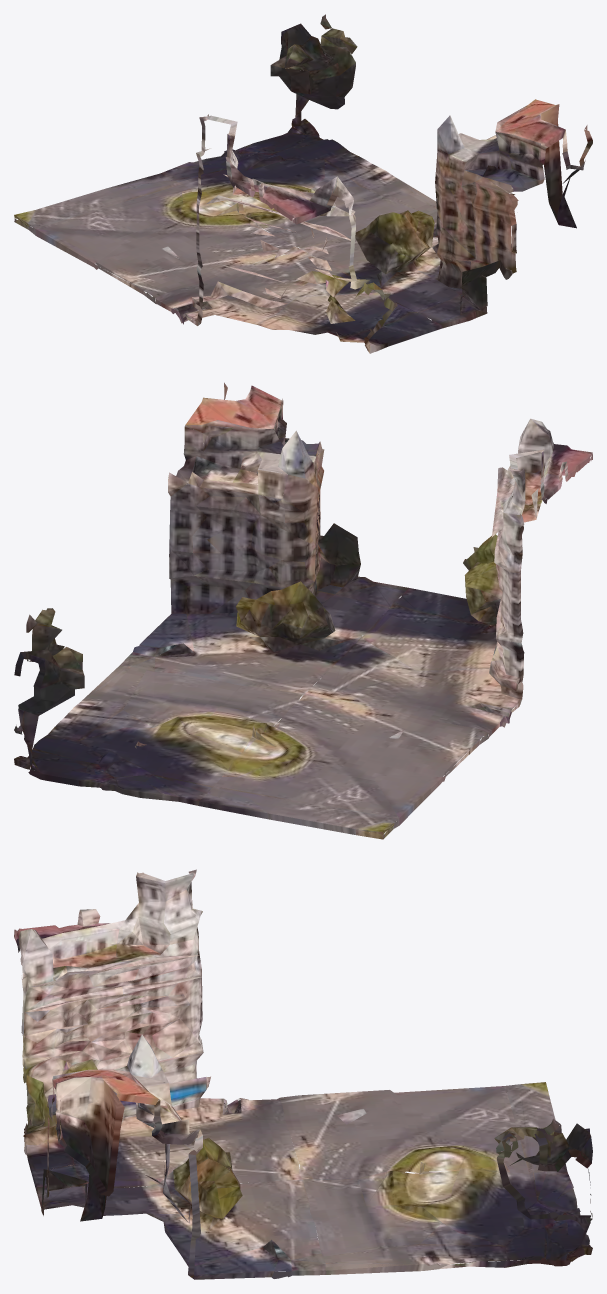
3 views of the same model, one above another, from view 1: azimuth 30°, elevation 25°; view 2: azimuth 150°, elevation 25°; view 3: azimuth 270°, elevation 25° (orthographic). The views are drawn at different scales.
Parts seen in each view (by area): view 1: Mesh_0; view 2: Mesh_0; view 3: Mesh_0.
Boxes of the visible parts, x1,y1,x2,y2 form: Mesh_0: (14, 14, 592, 353); Mesh_0: (14, 382, 592, 839); Mesh_0: (14, 869, 592, 1279).
Size of the model in its own units: 67.51 by 38.89 by 82.5.
Materials: 2 (2 with a texture image).
